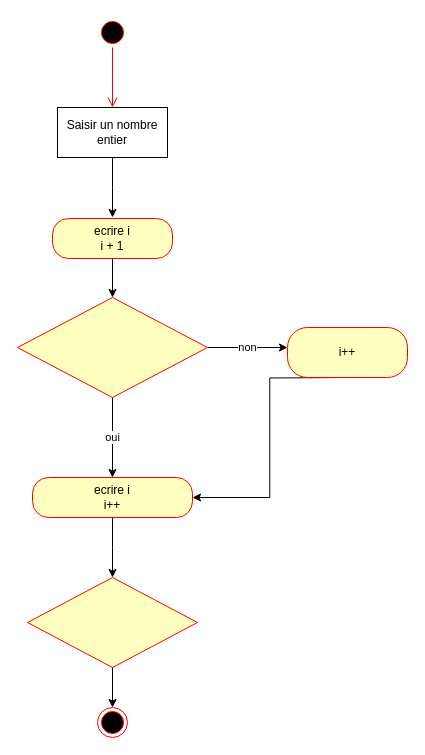
Image size: 425x755. Some labels were removed from this diagram. The shapes that lost their labels are listed below. From the top down, each one's centre as x and y in pixels, then its label:
At pixel 112 347: "nombre % i = 0".
At pixel 112 622: "pour i allant de 2 a nombre 1".
